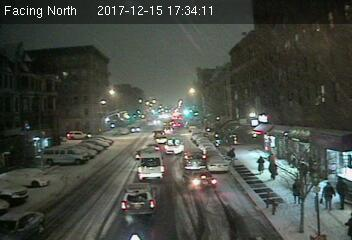car: (122, 182, 157, 217), (137, 149, 165, 180), (182, 169, 218, 189), (181, 148, 206, 172), (163, 135, 184, 154), (207, 157, 231, 173)
pedestrian: (336, 174, 349, 211), (321, 182, 335, 211), (226, 146, 237, 168), (268, 160, 279, 181), (257, 156, 267, 175)
